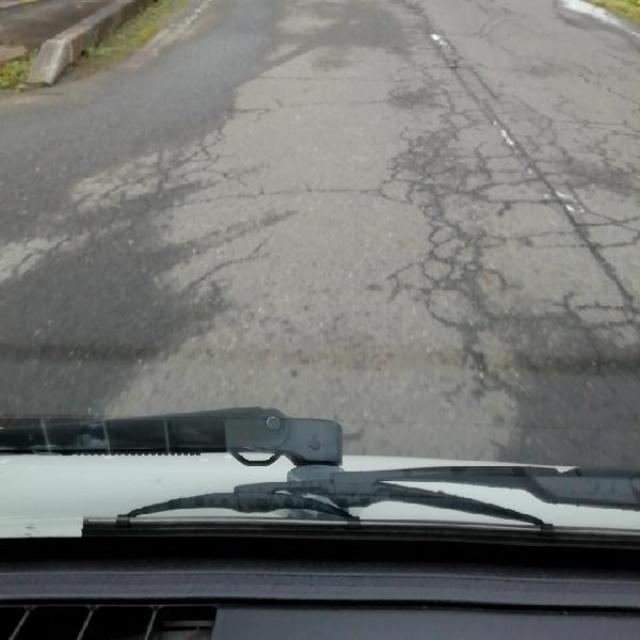Crack: (15, 20, 640, 436)
